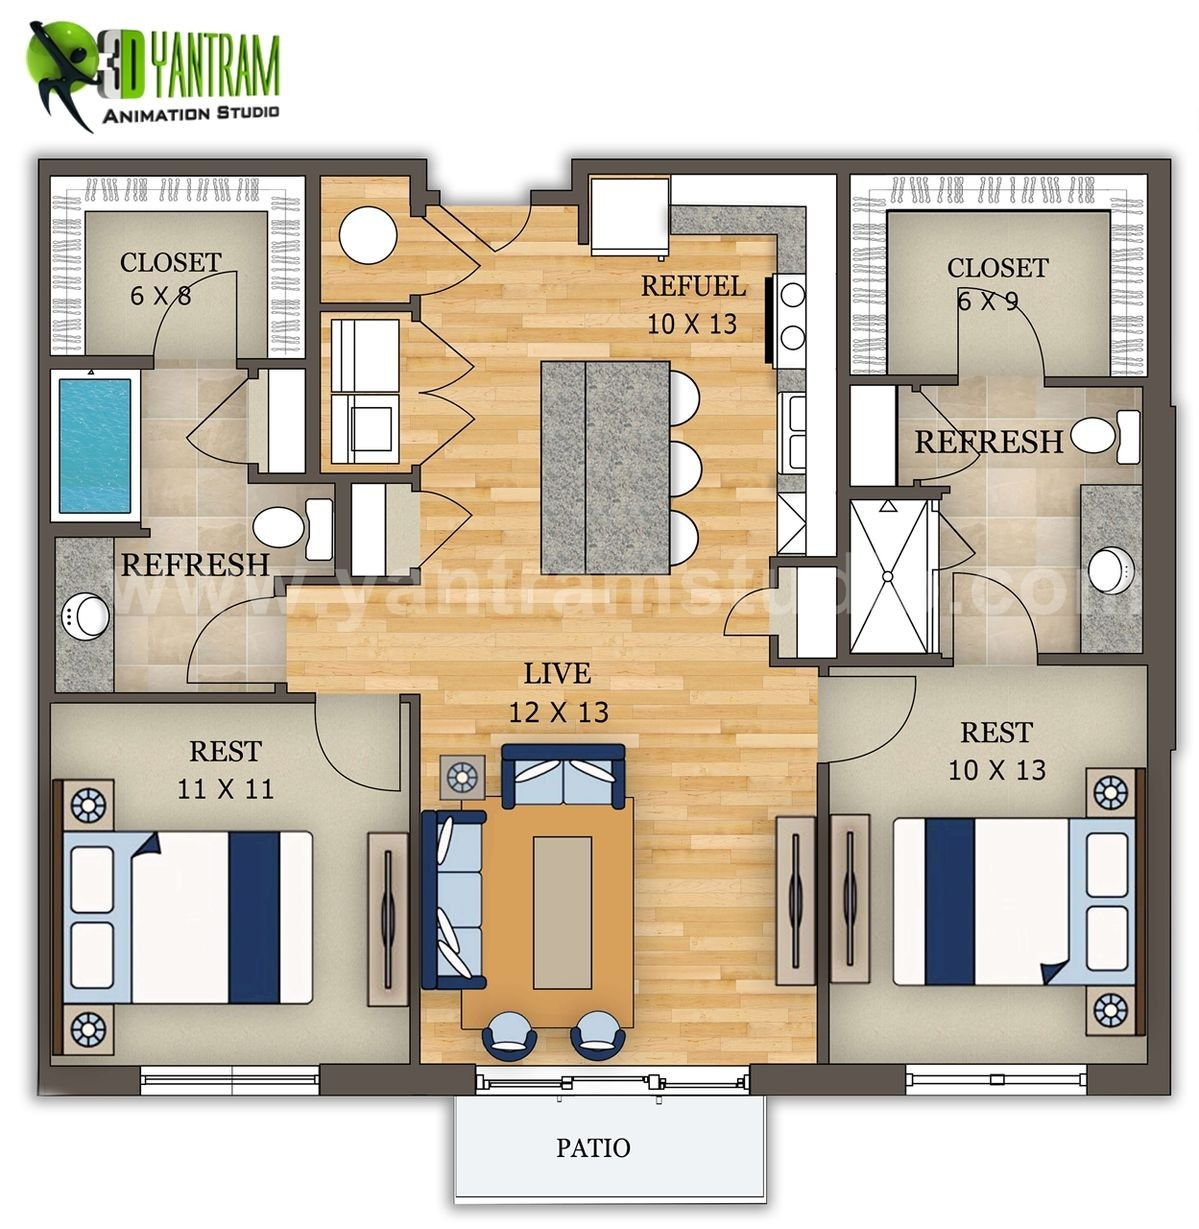wall: (575, 156, 1170, 174), (40, 161, 51, 1092), (1147, 403, 1175, 750), (38, 157, 429, 177), (1148, 751, 1170, 1096), (836, 161, 849, 664), (1148, 159, 1170, 404), (318, 1063, 477, 1096), (749, 1065, 906, 1098), (306, 160, 320, 482), (410, 695, 421, 1065), (816, 762, 829, 1064), (45, 691, 314, 702), (38, 1068, 141, 1093), (1089, 1065, 1170, 1094), (248, 471, 413, 484), (334, 473, 352, 583), (1038, 653, 1175, 664), (273, 576, 421, 585), (771, 658, 953, 666), (838, 373, 959, 384), (43, 356, 150, 368), (1044, 376, 1172, 386), (849, 487, 942, 500), (410, 158, 425, 216), (320, 302, 421, 311), (770, 555, 838, 567), (530, 190, 587, 204), (571, 158, 586, 204), (238, 358, 310, 367), (411, 189, 440, 205), (578, 204, 589, 244), (245, 461, 260, 485), (767, 633, 778, 664), (411, 465, 422, 492), (274, 680, 288, 701), (769, 556, 777, 586), (397, 693, 422, 704), (248, 357, 258, 382), (273, 577, 285, 596), (411, 295, 421, 320), (410, 568, 421, 586), (819, 658, 829, 677), (912, 479, 921, 499), (928, 487, 950, 493), (912, 375, 920, 391)
